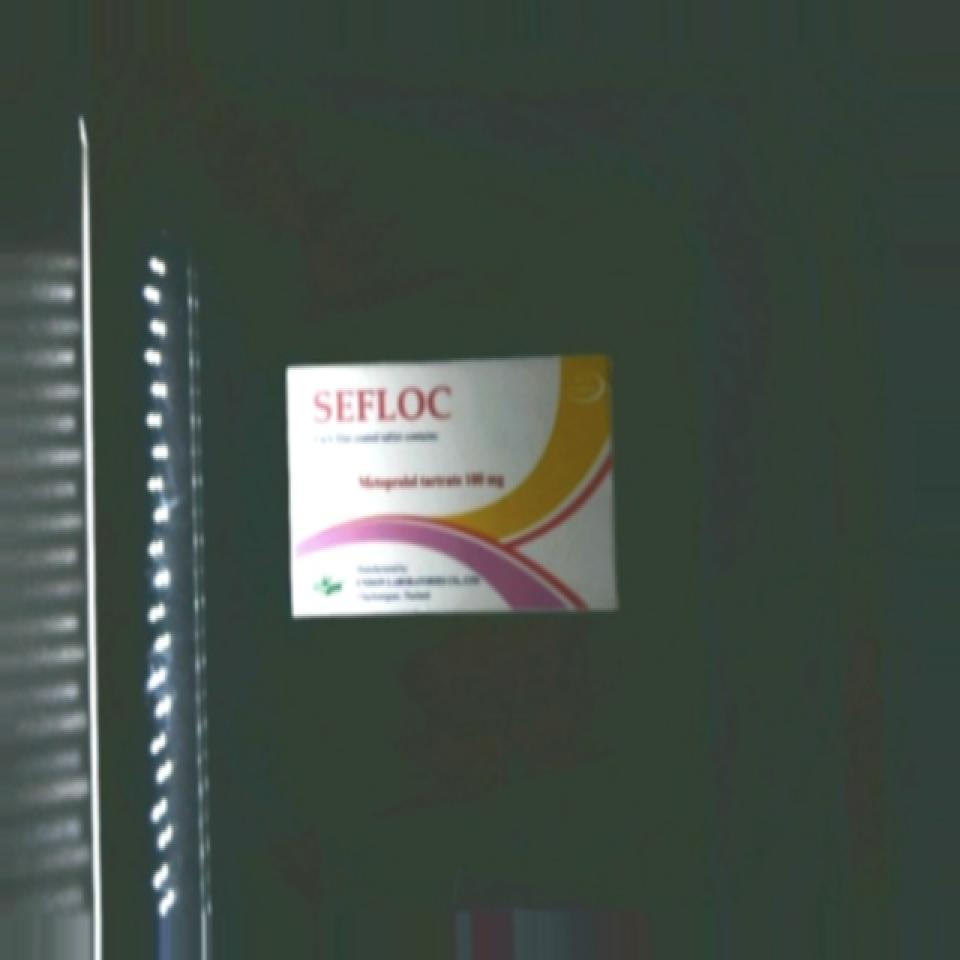sefloc: (284, 355, 617, 616)
